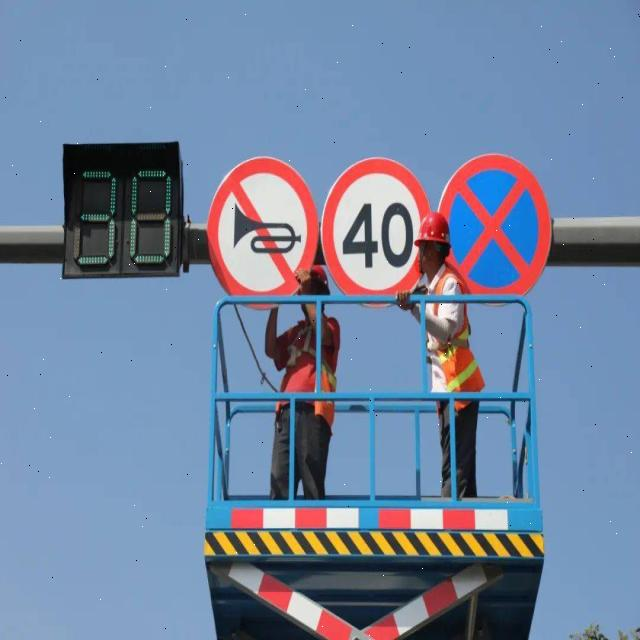speed limit 40: (318, 156, 429, 305)
